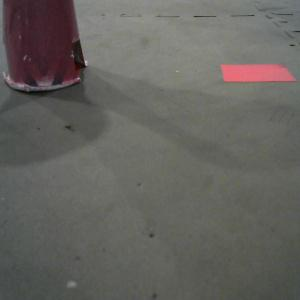middle: (3, 1, 87, 91)
